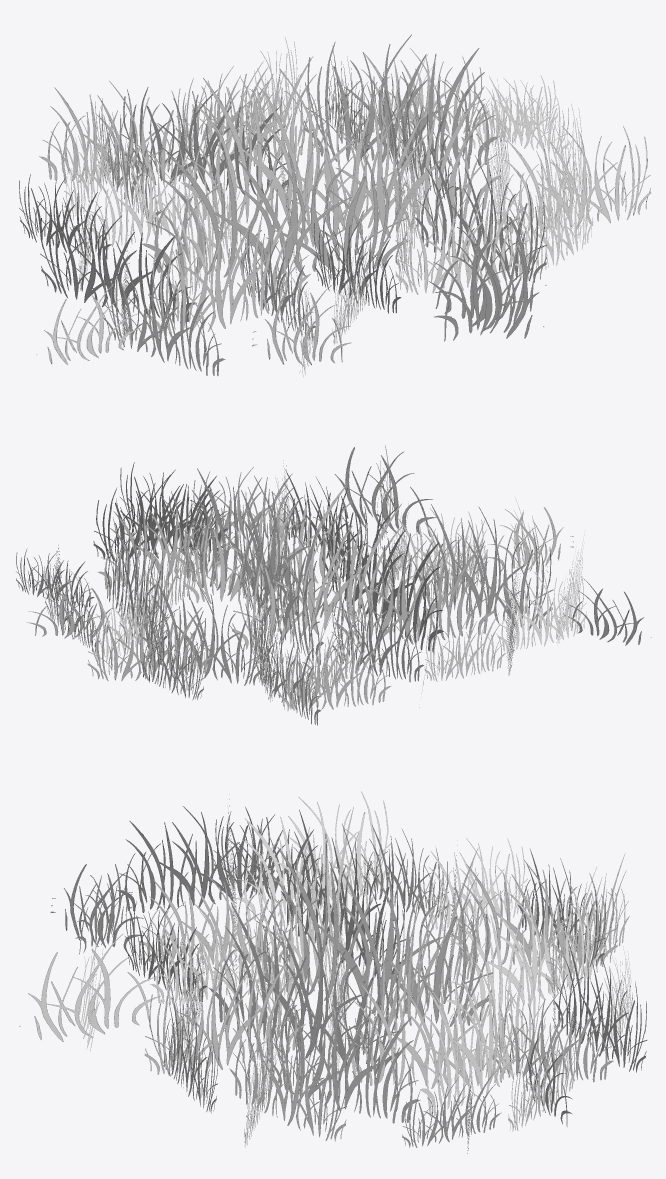
Rendered from SM_Grass_Grass_004.fbx.
3 views of the same model, one above another, from view 1: azimuth 30°, elevation 25°; view 2: azimuth 150°, elevation 25°; view 3: azimuth 270°, elevation 25° (orthographic). The views are drawn at different scales.
Visible parts, largest first — view 1: SM_Grass_Grass_004_LOD0; view 2: SM_Grass_Grass_004_LOD0; view 3: SM_Grass_Grass_004_LOD0.
Boxes of the visible parts, x1=… form: SM_Grass_Grass_004_LOD0: x1=19, y1=34, x2=651, y2=376; SM_Grass_Grass_004_LOD0: x1=16, y1=445, x2=651, y2=725; SM_Grass_Grass_004_LOD0: x1=19, y1=791, x2=647, y2=1153.
Size of what is drawn, in the model's own units: 253 by 60.46 by 212.
